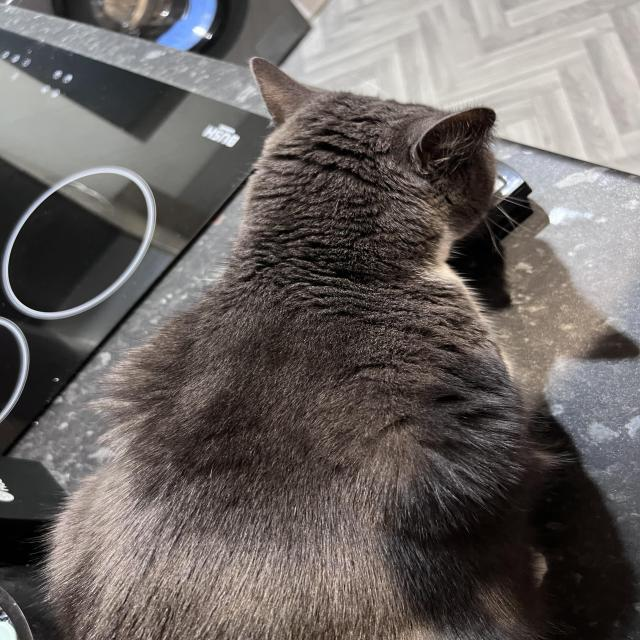Healthy skin: (132, 498, 364, 618), (262, 268, 391, 446), (296, 120, 397, 216), (154, 376, 233, 465)
